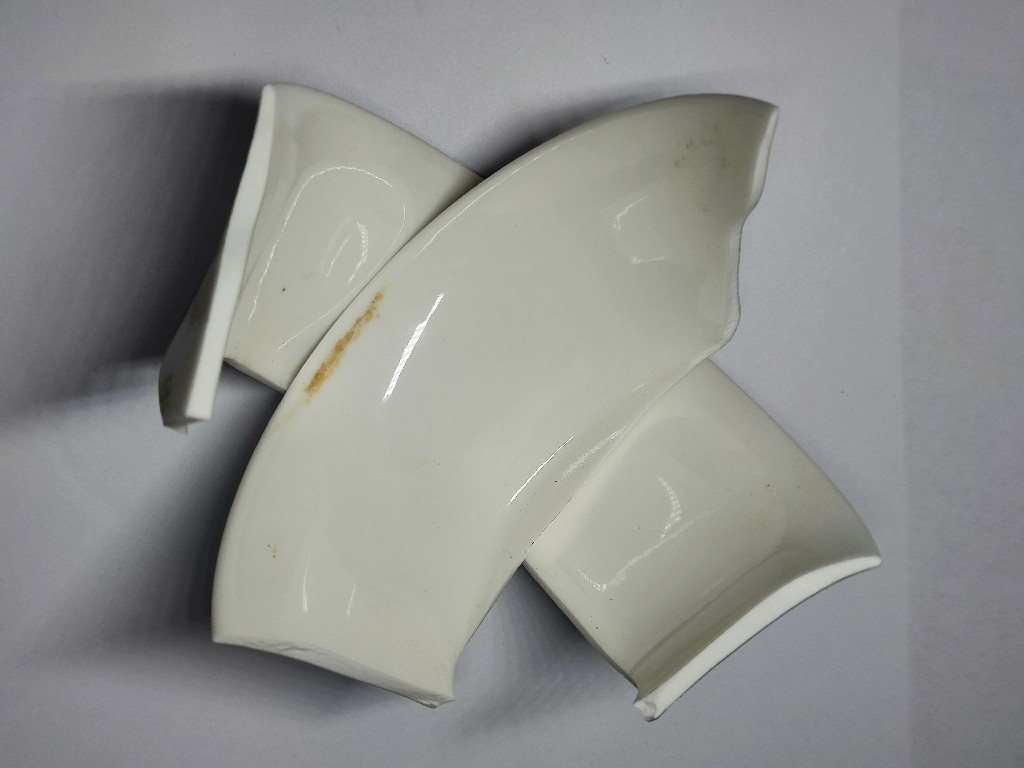ceramics: (146, 62, 896, 731)
